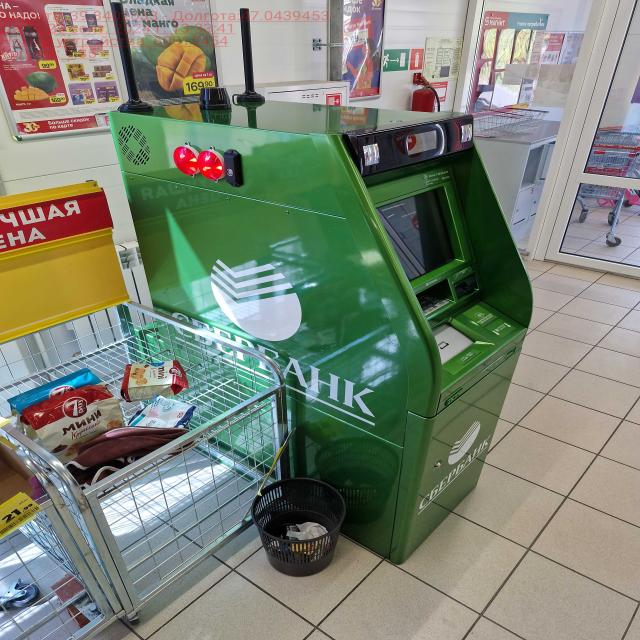bank: (113, 82, 532, 562)
